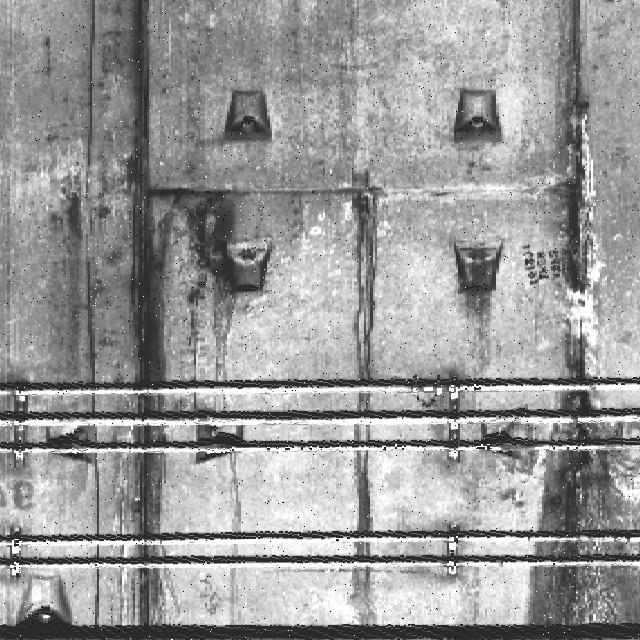leakage: (522, 24, 640, 631), (123, 0, 173, 629), (343, 179, 395, 632), (186, 189, 236, 384), (224, 447, 249, 627)
